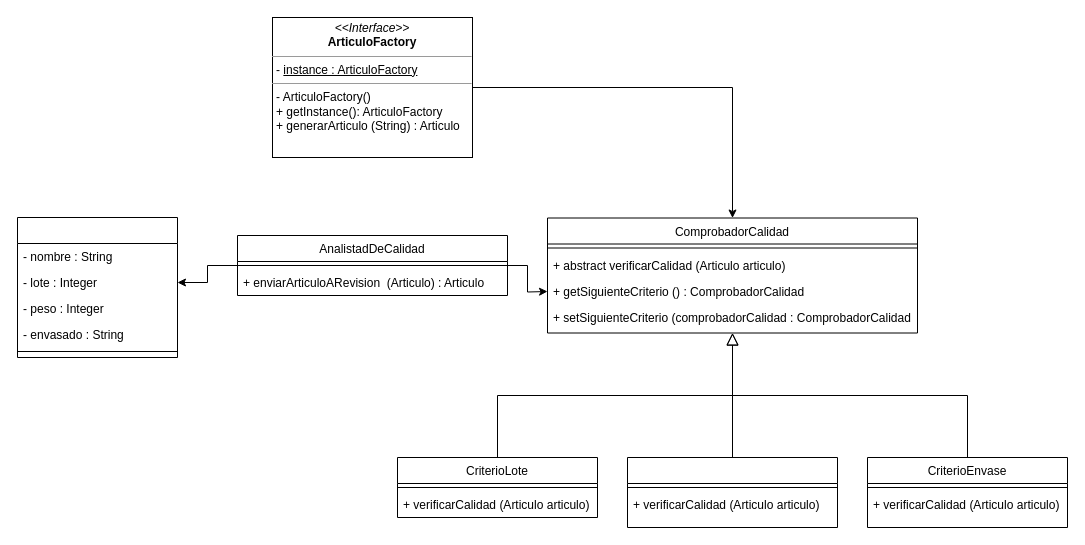
Image size: 1085x545. Some labels were removed from this diagram. Here are the shapes that lost their labels. From the top down, the box of each, then its label:
(16, 216, 178, 358): Articulo
(626, 456, 838, 528): CriterioPeso
